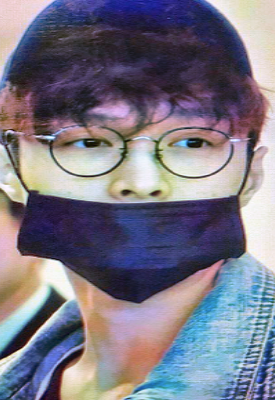mask_weared_incorrect: (14, 107, 248, 304)
